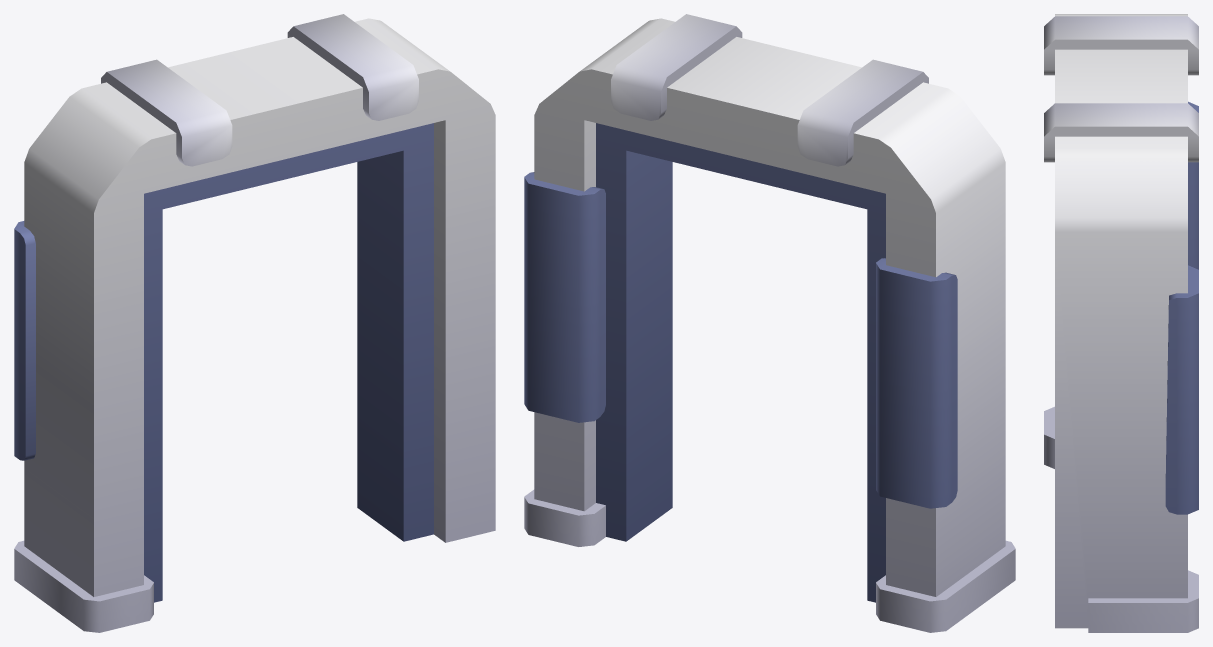
Rendered from kenney-space-gate.glb.
The picture shows the model from 3 angles, left to right: view 1: azimuth 30°, elevation 25°; view 2: azimuth 150°, elevation 25°; view 3: azimuth 270°, elevation 25°; orthographic projection. The views are drawn at different scales.
Parts seen in each view (by area): view 1: gate; view 2: gate; view 3: gate.
Boxes of the visible parts, x1,y1,x2,y2 form: gate: [14, 14, 495, 632]; gate: [524, 14, 1015, 632]; gate: [1044, 14, 1198, 632].
Size of the model in its own units: 3.15 by 3.47 by 1.05.
Materials: 1 (1 with a texture image).
